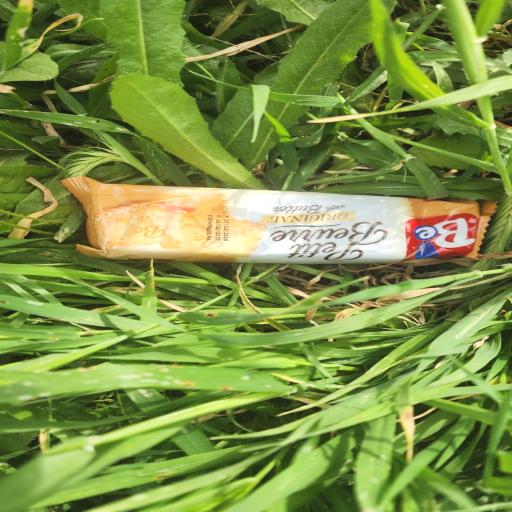petit_beurre: (2, 145, 502, 298)
